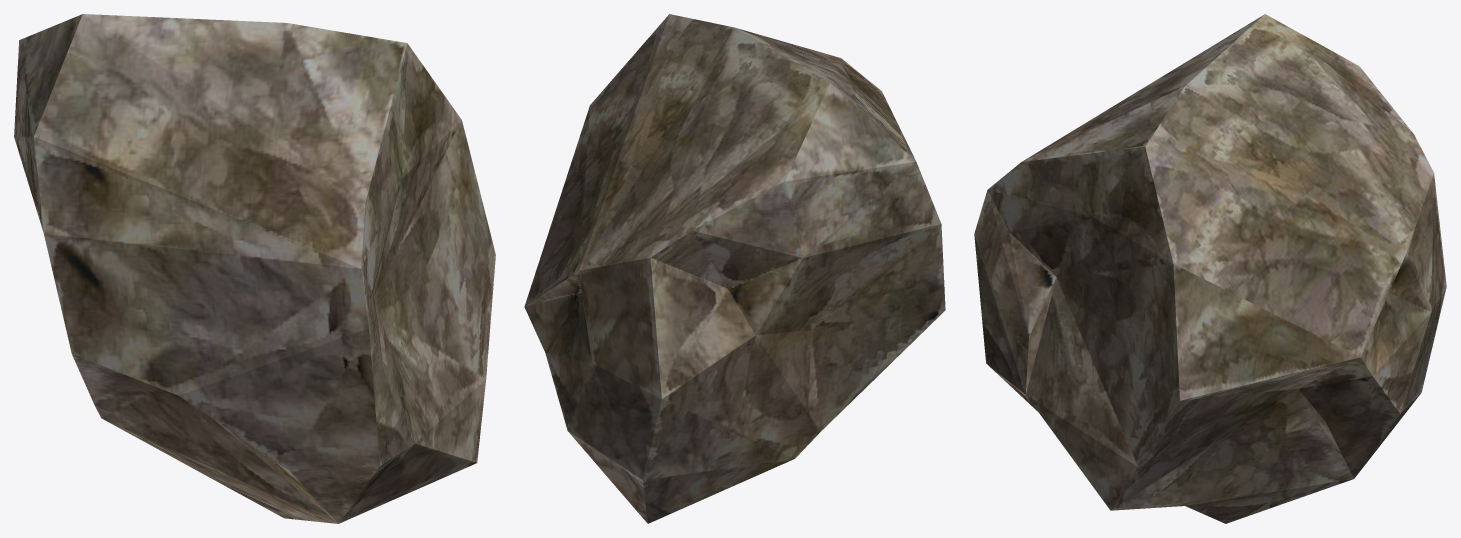
File: stone1.obj
The picture shows the model from 3 angles, left to right: view 1: azimuth 30°, elevation 25°; view 2: azimuth 150°, elevation 25°; view 3: azimuth 270°, elevation 25°; orthographic projection. The views are drawn at different scales.
Visible parts, largest first — view 1: stone1; view 2: stone1; view 3: stone1.
Part boxes in pixels (<box>): stone1: <box>14,14,495,523</box>; stone1: <box>524,14,945,523</box>; stone1: <box>974,14,1446,523</box>.
Bounding box in the file's own units: 0.9014 × 1.03 × 1.01.
1 material, 1 textured.
